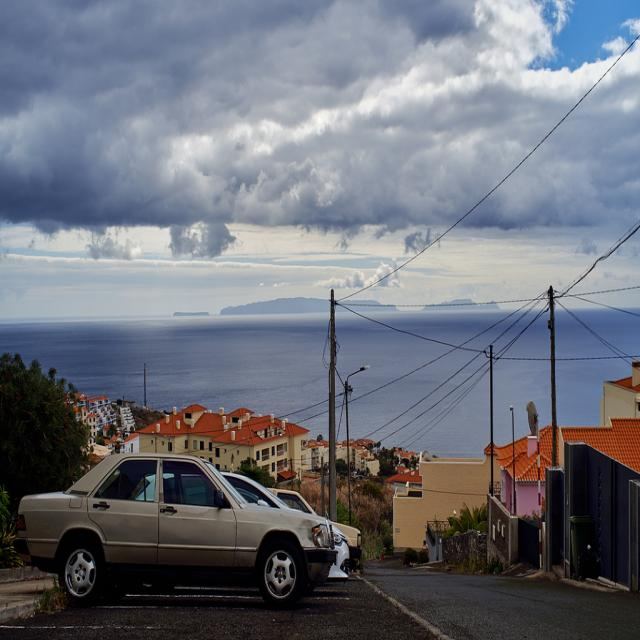car: (11, 450, 337, 605)
